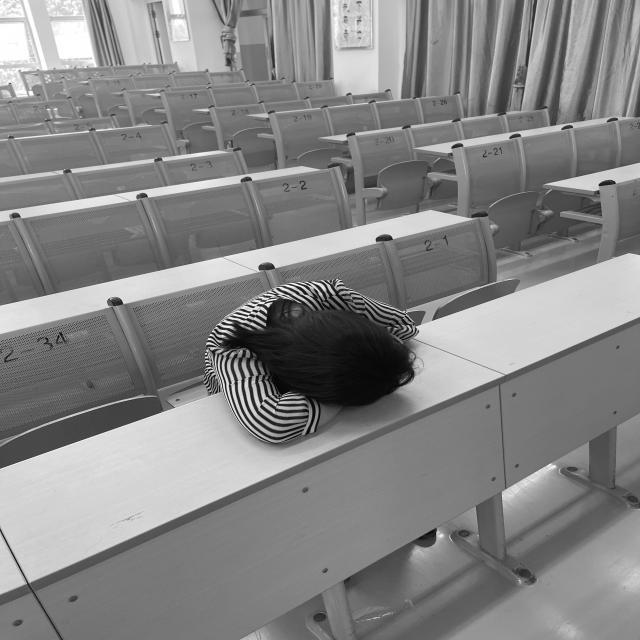sleep: (203, 282, 422, 445)
